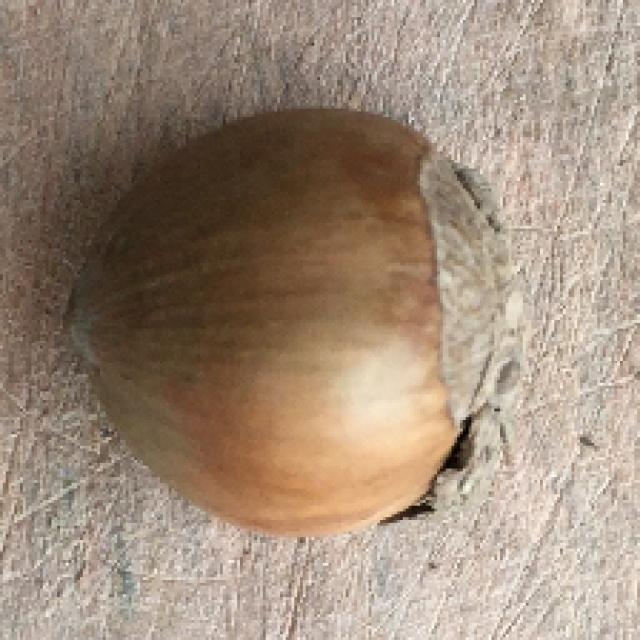damagedHazelnut: (61, 100, 531, 535)
